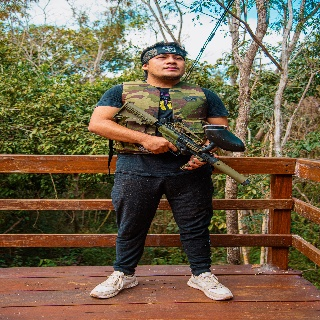rifle: (113, 101, 254, 188)
